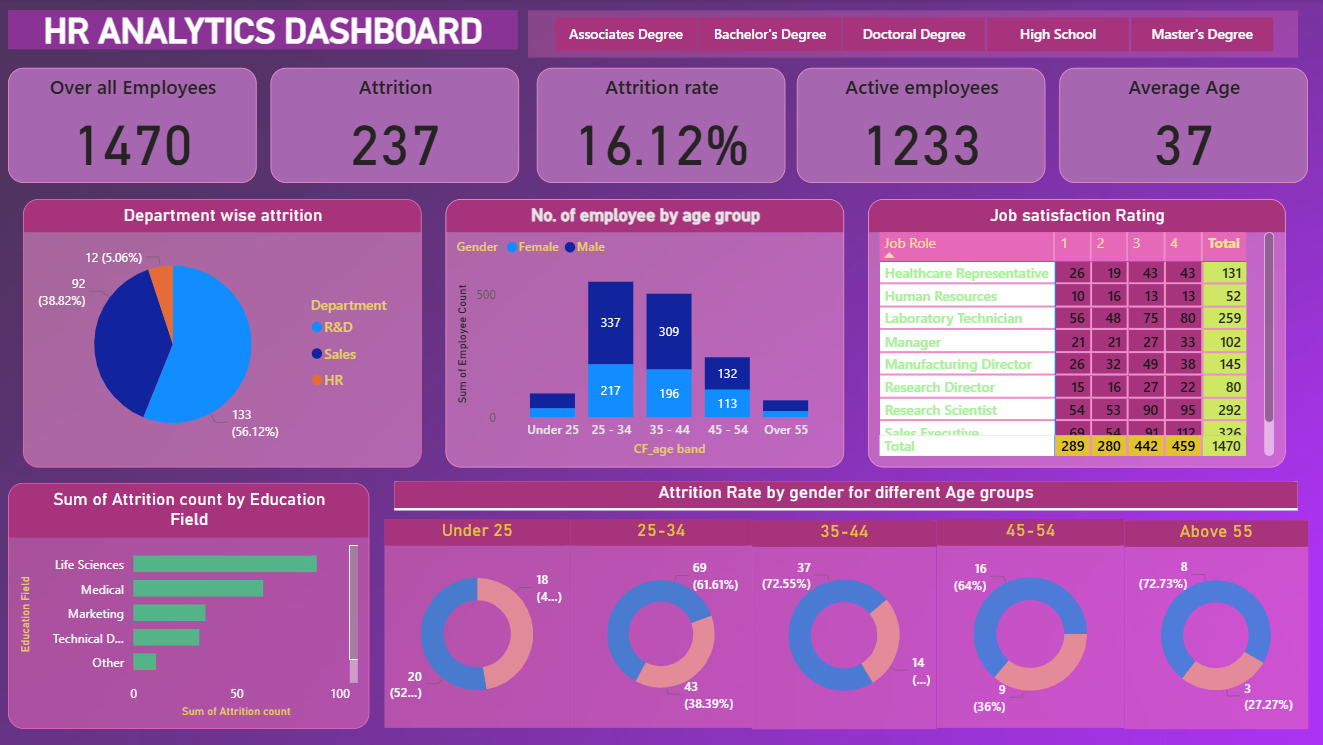

What the dashboard file says about the page in this screenshot:
{"tool":"powerbi","page":{"name":"Page 1","canvas":[1280,720],"ordinal":0},"visuals":[{"type":"card","title":"Over all Employees","fields":{"Values":["Sum(Sheet1.Employee Count)"]},"box":[9.7,66.4,240.1,111],"z":0},{"type":"card","title":"Attrition","fields":{"Values":["Sum(Sheet1.Attrition count)"]},"box":[263,66.4,240.1,111],"z":1000},{"type":"card","title":"Attrition rate","fields":{"Values":["Sheet1.Attrition rate"]},"box":[520,66.4,240.1,111],"z":2000},{"type":"card","title":"Active employees","fields":{"Values":["Sheet1.Active employees"]},"box":[770.9,66.4,240.1,111],"z":3000},{"type":"card","title":"Average Age","fields":{"Values":["Avg(Sheet1.Age)"]},"box":[1024.3,66.4,240.1,111],"z":4000},{"type":"pieChart","title":"Department wise attrition","fields":{"Category":["Sheet1.Department"],"Y":["Sum(Sheet1.Attrition count)"]},"box":[24.1,193,384.9,259.4],"z":5000},{"type":"columnChart","title":"No. of employee by age group","fields":{"Category":["Sheet1.CF_age band"],"Y":["Sum(Sheet1.Employee Count)"],"Series":["Sheet1.Gender"]},"box":[431.9,193,384.9,259.4],"z":6000},{"type":"pivotTable","title":"Job satisfaction Rating","fields":{"Rows":["Sheet1.Job Role"],"Columns":["Sheet1.Job Satisfaction"],"Values":["Sum(Sheet1.Employee Count)"]},"box":[839.7,193,403,259.4],"z":7000},{"type":"clusteredBarChart","fields":{"Category":["Sheet1.Education Field"],"Y":["Sum(Sheet1.Attrition count)"]},"box":[9.7,466.9,348.7,237.7],"z":8000},{"type":"donutChart","title":"Under 25","fields":{"Category":["Sheet1.Gender"],"Y":["Sum(Sheet1.Attrition count)"],"Series":["Sheet1.CF_age band"]},"box":[372.8,501.9,179.8,201.5],"z":9000},{"type":"textbox","title":"Attrition Rate by gender for different Age groups","box":[382.4,465.7,872.3,27.7],"z":10000},{"type":"donutChart","title":"25-34","fields":{"Category":["Sheet1.Gender"],"Y":["Sum(Sheet1.Attrition count)"],"Series":["Sheet1.CF_age band"]},"box":[552.5,501.9,174.9,201.5],"z":11000},{"type":"donutChart","title":"35-44","fields":{"Category":["Sheet1.Gender"],"Y":["Sum(Sheet1.Attrition count)"],"Series":["Sheet1.CF_age band"]},"box":[727.5,503.1,178.6,201.5],"z":12000},{"type":"donutChart","title":"45-54","fields":{"Category":["Sheet1.Gender"],"Y":["Sum(Sheet1.Attrition count)"],"Series":["Sheet1.CF_age band"]},"box":[906,501.9,181,201.5],"z":13000},{"type":"donutChart","title":"Above 55","fields":{"Category":["Sheet1.Gender"],"Y":["Sum(Sheet1.Attrition count)"],"Series":["Sheet1.CF_age band"]},"box":[1087,503.1,177.3,201.5],"z":14000},{"type":"textbox","title":"HR ANALYTICS DASHBOARD","box":[9.7,10.9,492.2,37.4],"z":15000},{"type":"slicer","fields":{"Values":["Sheet1.Education"]},"box":[511.5,10.9,743.2,45.8],"z":16000}]}

Visuals, with their boxes in screenshot pixels (x1, y1, x2, y2), scaled from the page's 1280x720 canvas onto the 1323x745 screenshot:
"Over all Employees" card: BBox(10, 69, 258, 184)
"Attrition" card: BBox(272, 69, 520, 184)
"Attrition rate" card: BBox(537, 69, 786, 184)
"Active employees" card: BBox(797, 69, 1045, 184)
"Average Age" card: BBox(1059, 69, 1307, 184)
"Department wise attrition" pieChart: BBox(25, 200, 423, 468)
"No. of employee by age group" columnChart: BBox(446, 200, 844, 468)
"Job satisfaction Rating" pivotTable: BBox(868, 200, 1284, 468)
clusteredBarChart - Sheet1.Education Field x Sum(Sheet1.Attrition count): BBox(10, 483, 370, 729)
"Under 25" donutChart: BBox(385, 519, 571, 728)
"Attrition Rate by gender for different Age groups" textbox: BBox(395, 482, 1297, 511)
"25-34" donutChart: BBox(571, 519, 752, 728)
"35-44" donutChart: BBox(752, 521, 937, 729)
"45-54" donutChart: BBox(936, 519, 1124, 728)
"Above 55" donutChart: BBox(1124, 521, 1307, 729)
"HR ANALYTICS DASHBOARD" textbox: BBox(10, 11, 519, 50)
slicer - Sheet1.Education: BBox(529, 11, 1297, 59)
